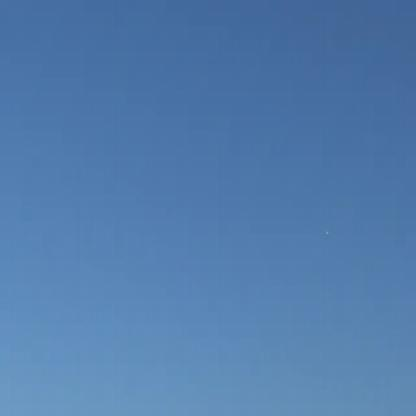CIV_Plane: (324, 226, 332, 240)
